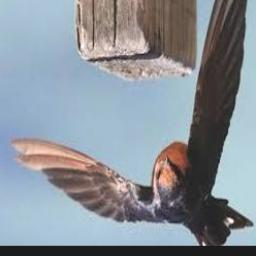Swallow: (11, 0, 254, 246)
